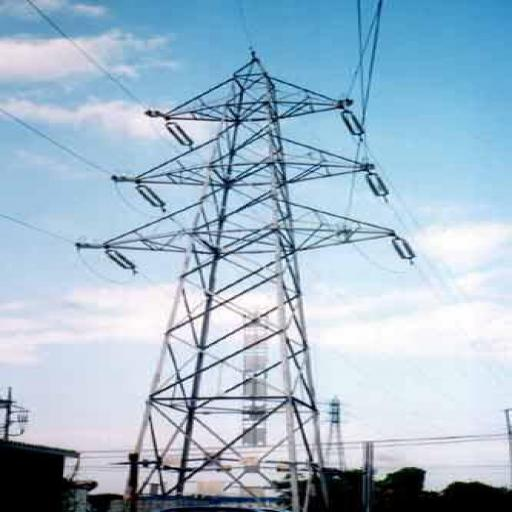ss_3: (92, 54, 395, 505)
